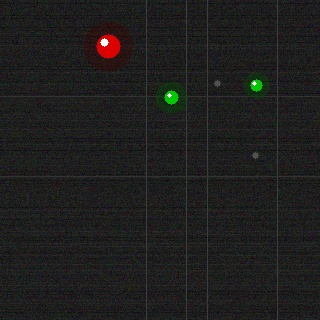green_normal: (162, 88, 180, 106), (248, 77, 264, 93)
red_fault: (94, 32, 122, 60)
